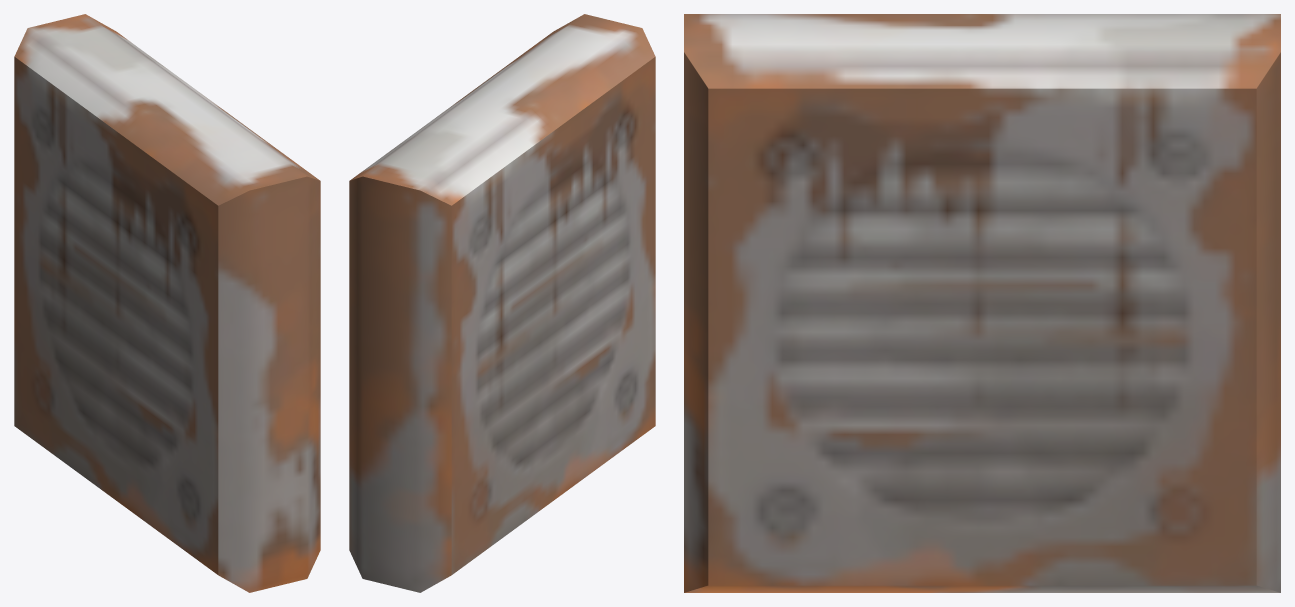
Rendered from SM_ExhaustFan.fbx.
3 renders of one model, left to right at view 1: azimuth 30°, elevation 25°; view 2: azimuth 150°, elevation 25°; view 3: azimuth 270°, elevation 25°, orthographic. The views are drawn at different scales.
Visible parts, largest first — view 1: OutDoor; view 2: OutDoor; view 3: OutDoor.
Part boxes in pixels (left/top/right/bottom): OutDoor: left=14, top=14, right=320, bottom=592; OutDoor: left=349, top=14, right=655, bottom=592; OutDoor: left=684, top=14, right=1280, bottom=592.
Bounding box in the file's own units: 0.2298 × 0.8641 × 0.8641.
1 material, 1 textured.
